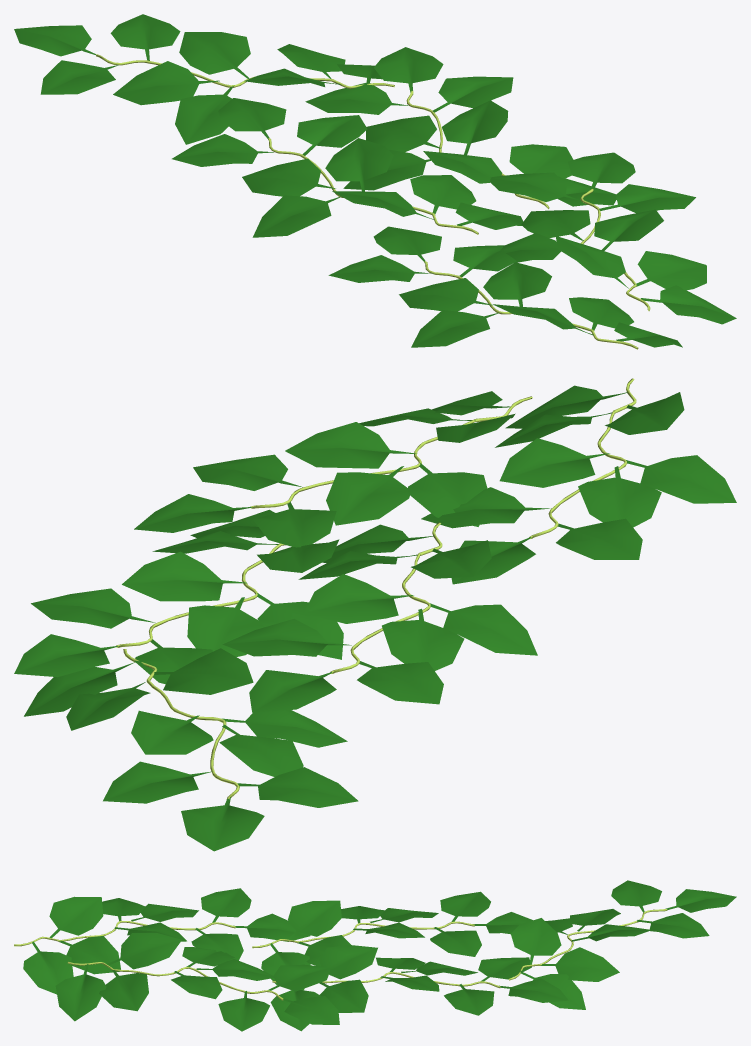
Rendered from foglie.fbx.
3 renders of one model, top to bottom at view 1: azimuth 30°, elevation 25°; view 2: azimuth 150°, elevation 25°; view 3: azimuth 270°, elevation 25°, orthographic. The views are drawn at different scales.
Parts seen in each view (by area): view 1: Foglie3, Foglie1, Foglie2, Foglie4, Foglie5; view 2: Foglie1, Foglie3, Foglie5, Foglie4, Foglie2; view 3: Foglie4, Foglie5, Foglie1, Foglie2, Foglie3.
Part boxes in pixels (x1,y1,x2,y2): Foglie3: [172, 98, 523, 237]; Foglie1: [14, 14, 394, 144]; Foglie2: [305, 47, 616, 209]; Foglie4: [490, 152, 736, 324]; Foglie5: [328, 226, 682, 349]; Foglie1: [24, 648, 358, 851]; Foglie3: [222, 522, 537, 712]; Foglie5: [421, 378, 736, 584]; Foglie4: [134, 391, 532, 547]; Foglie2: [14, 509, 343, 684]; Foglie4: [55, 933, 339, 1031]; Foglie5: [14, 888, 310, 994]; Foglie1: [508, 880, 736, 1009]; Foglie2: [270, 945, 568, 1031]; Foglie3: [252, 891, 532, 990].
Size of the model in its own units: 877 by 125 by 1860.
